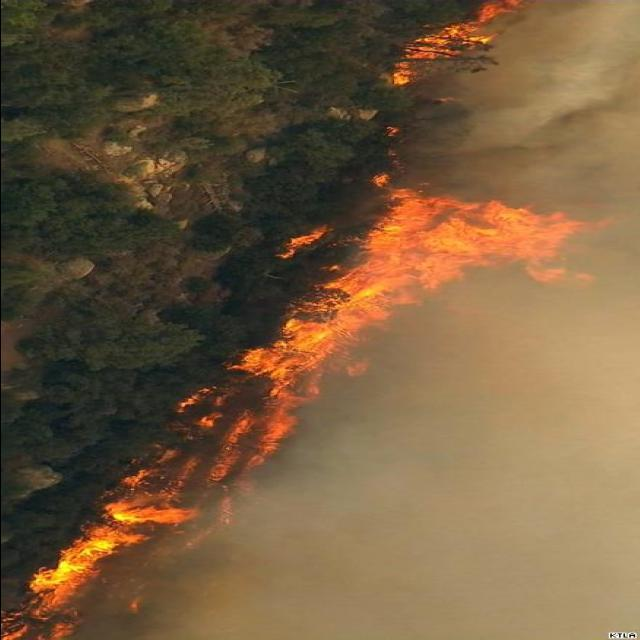Fire: (248, 184, 594, 388), (28, 402, 294, 630), (392, 5, 530, 87)
